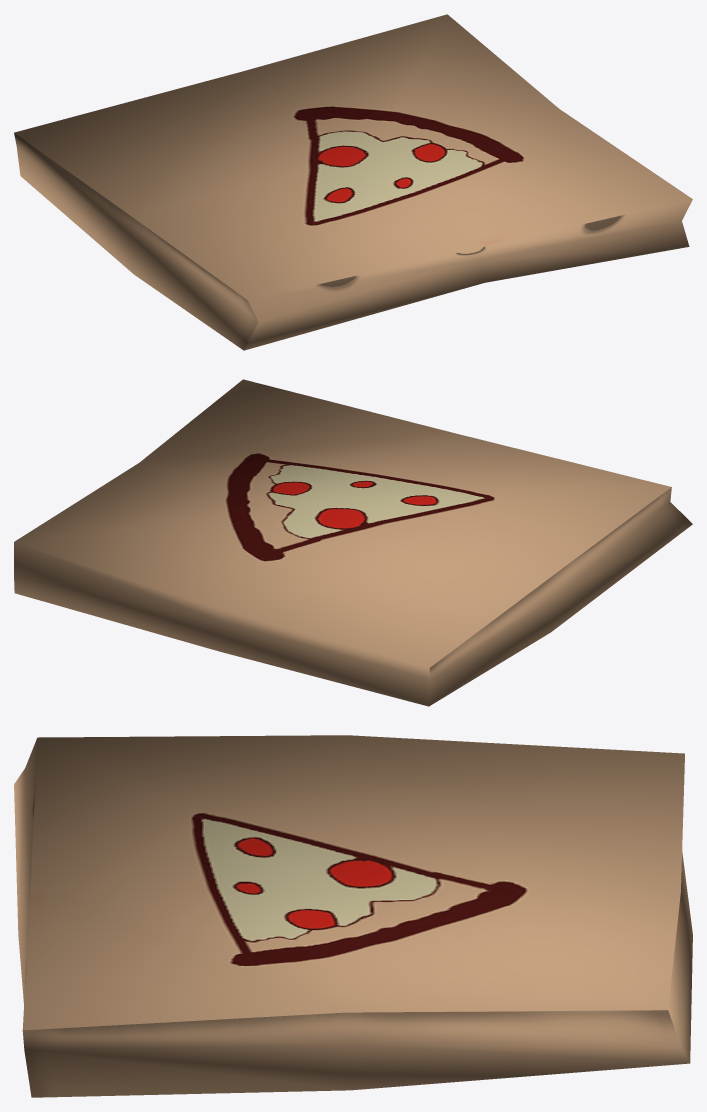
File: Pizza_carton_box.fbx
3 renders of one model, top to bottom at view 1: azimuth 30°, elevation 25°; view 2: azimuth 150°, elevation 25°; view 3: azimuth 270°, elevation 25°, orthographic. The views are drawn at different scales.
Parts seen in each view (by area): view 1: Pizza_Cartoon_Box; view 2: Pizza_Cartoon_Box; view 3: Pizza_Cartoon_Box.
Boxes of the visible parts, left/top/right/bottom form: Pizza_Cartoon_Box: left=14, top=14, right=692, bottom=350; Pizza_Cartoon_Box: left=14, top=379, right=692, bottom=706; Pizza_Cartoon_Box: left=14, top=735, right=692, bottom=1097.
Size of the model in its own units: 39.81 by 5.99 by 38.29.
